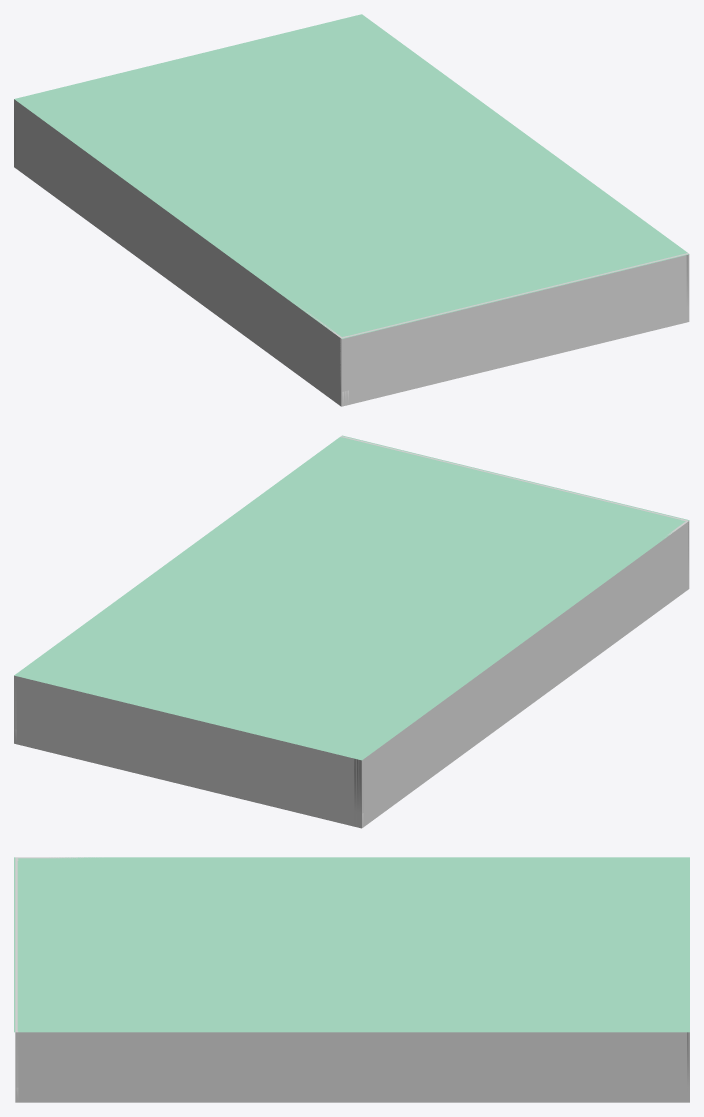
3 renders of one model, top to bottom at view 1: azimuth 30°, elevation 25°; view 2: azimuth 150°, elevation 25°; view 3: azimuth 270°, elevation 25°, orthographic. The views are drawn at different scales.
Visible parts, largest first — view 1: test_celling_1.001, main_low.002, main_low.011; view 2: test_celling_1.001, main_low.015, main_low.011, main_low.002; view 3: test_celling_1.001, main_low.019, main_low.002.
Boxes of the visible parts, x1,y1,x2,y2 form: test_celling_1.001: [14, 14, 689, 338]; main_low.002: [348, 253, 686, 404]; main_low.011: [15, 100, 341, 405]; test_celling_1.001: [14, 435, 689, 760]; main_low.015: [16, 676, 354, 826]; main_low.011: [363, 521, 688, 827]; main_low.002: [343, 436, 681, 519]; test_celling_1.001: [14, 857, 689, 1032]; main_low.019: [18, 1032, 686, 1102]; main_low.002: [15, 861, 17, 1030].
Size of the model in its own units: 13900 by 2614 by 22700.
